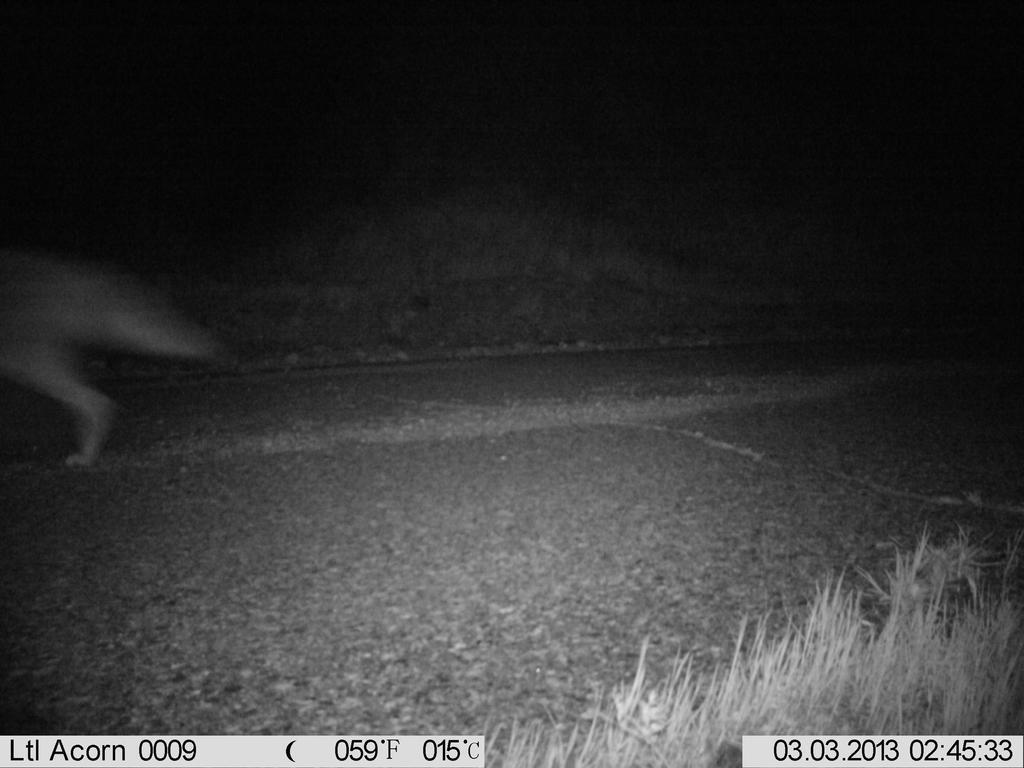coyote: (3, 226, 233, 475)
